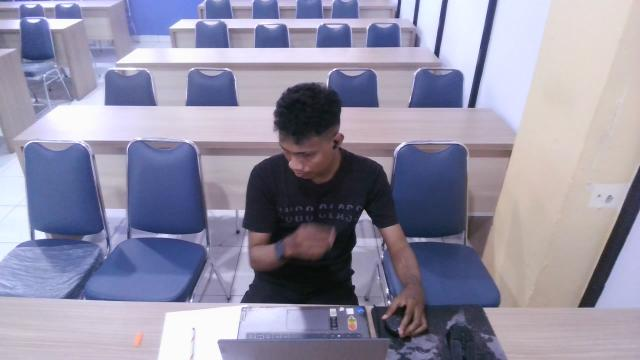Earpiece: (330, 132, 347, 152)
Head_Down_Extreme: (237, 82, 383, 281)
